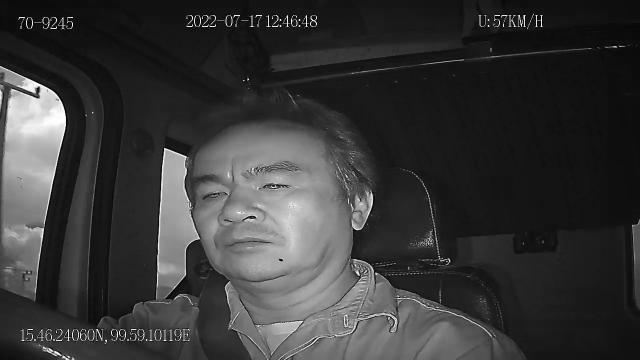SafeDriving: (252, 169, 302, 198), (194, 178, 234, 209)
Seatbelt: (195, 268, 253, 360)
